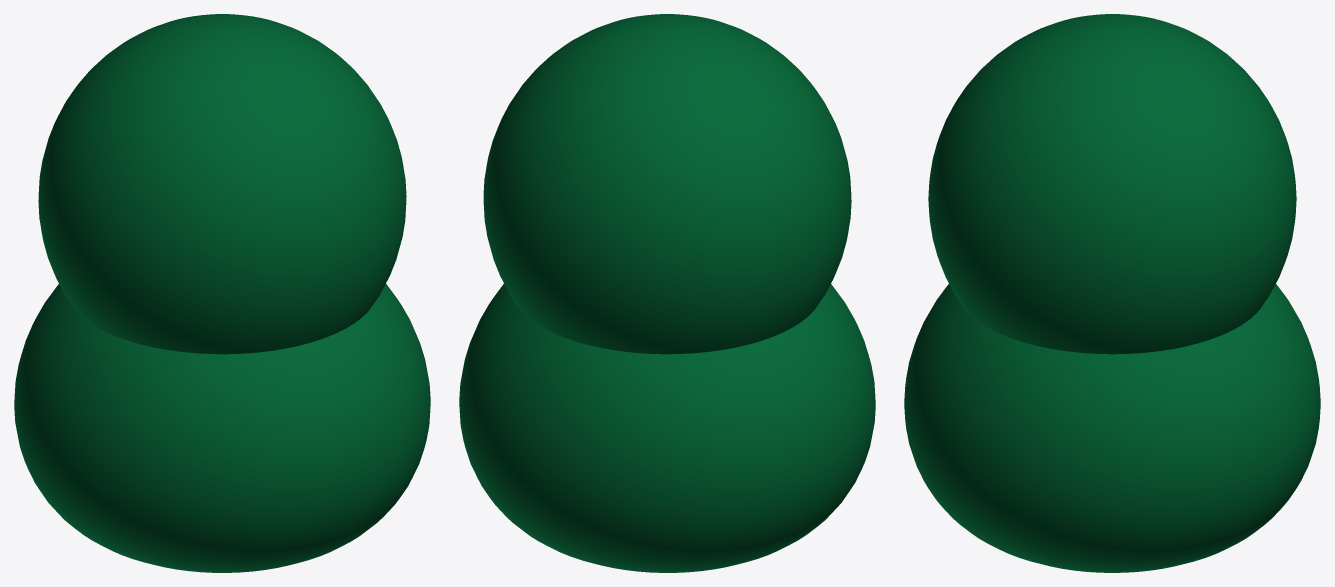
3 renders of one model, left to right at view 1: azimuth 30°, elevation 25°; view 2: azimuth 150°, elevation 25°; view 3: azimuth 270°, elevation 25°, orthographic.
Parts seen in each view (by area): view 1: Sphere.035; view 2: Sphere.035; view 3: Sphere.035.
Part boxes in pixels (box(x1,y1,x2,y2)): Sphere.035: box(14, 14, 430, 572); Sphere.035: box(459, 14, 875, 572); Sphere.035: box(904, 14, 1320, 572).
Size of the model in its own units: 2.23 by 2.94 by 2.23.
